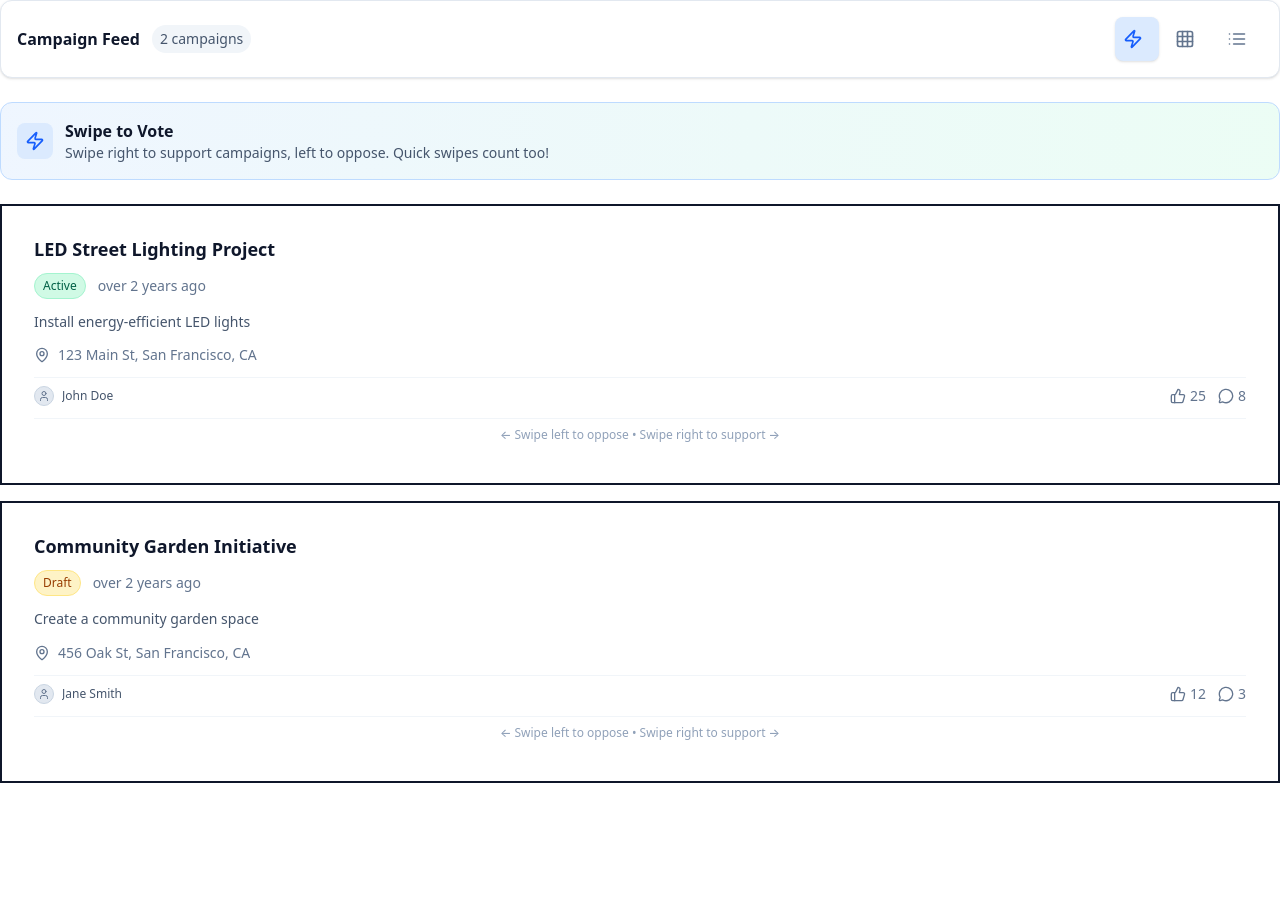
Test: EnhancedCampaignList › Layout Variations › applies list layout classes in list mode
This screenshot has width=1280, height=900.
Click the button titled "List View". click: (1241, 39)
box: [1219,17,1263,61]
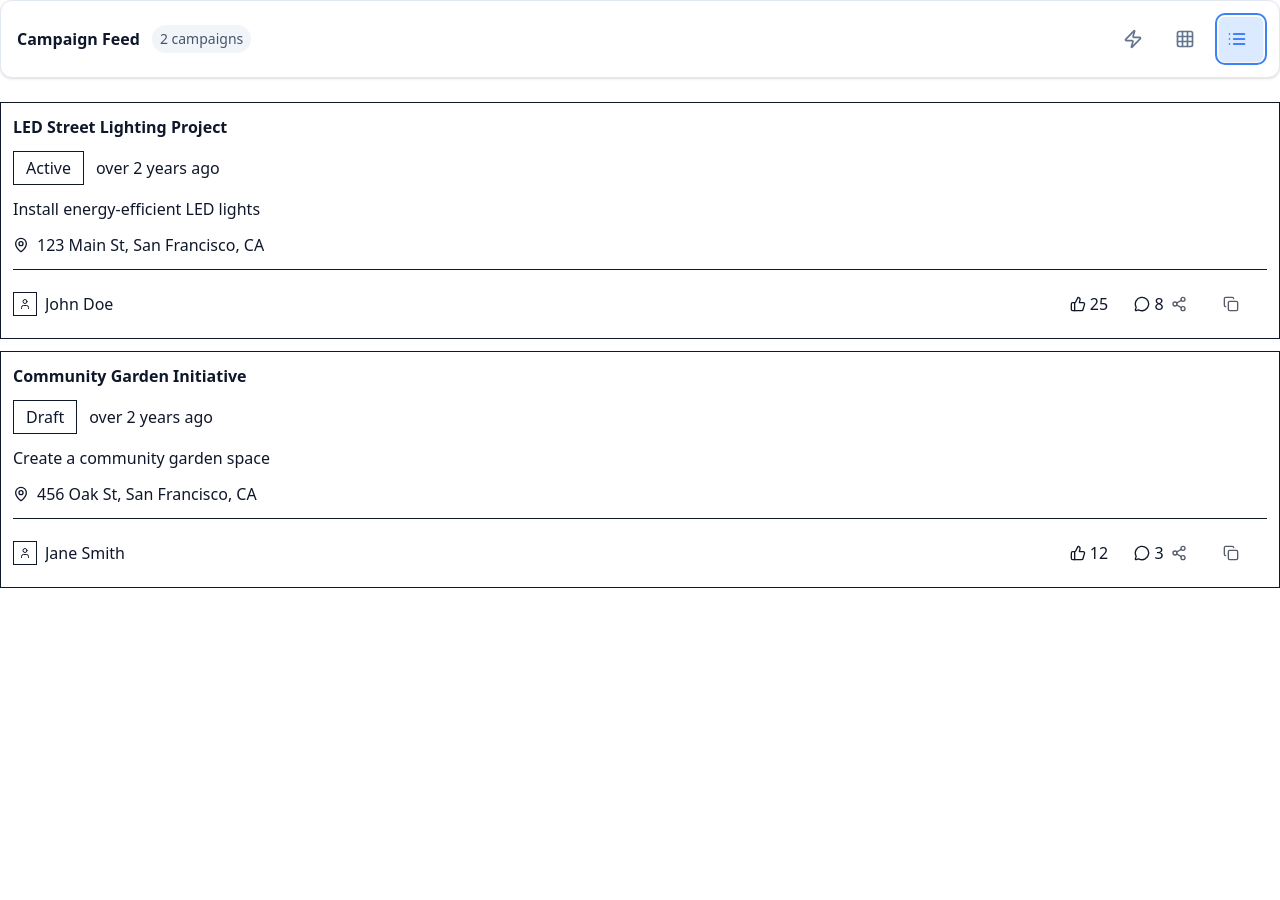
Expected: the element with class "space-y-3" that starts with "LED Street Lighting Project" is shown, [0,102,1279,588]
